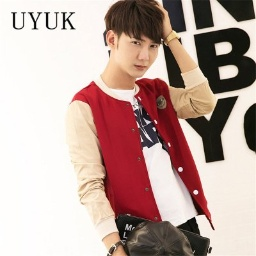face: (104, 1, 169, 77)
